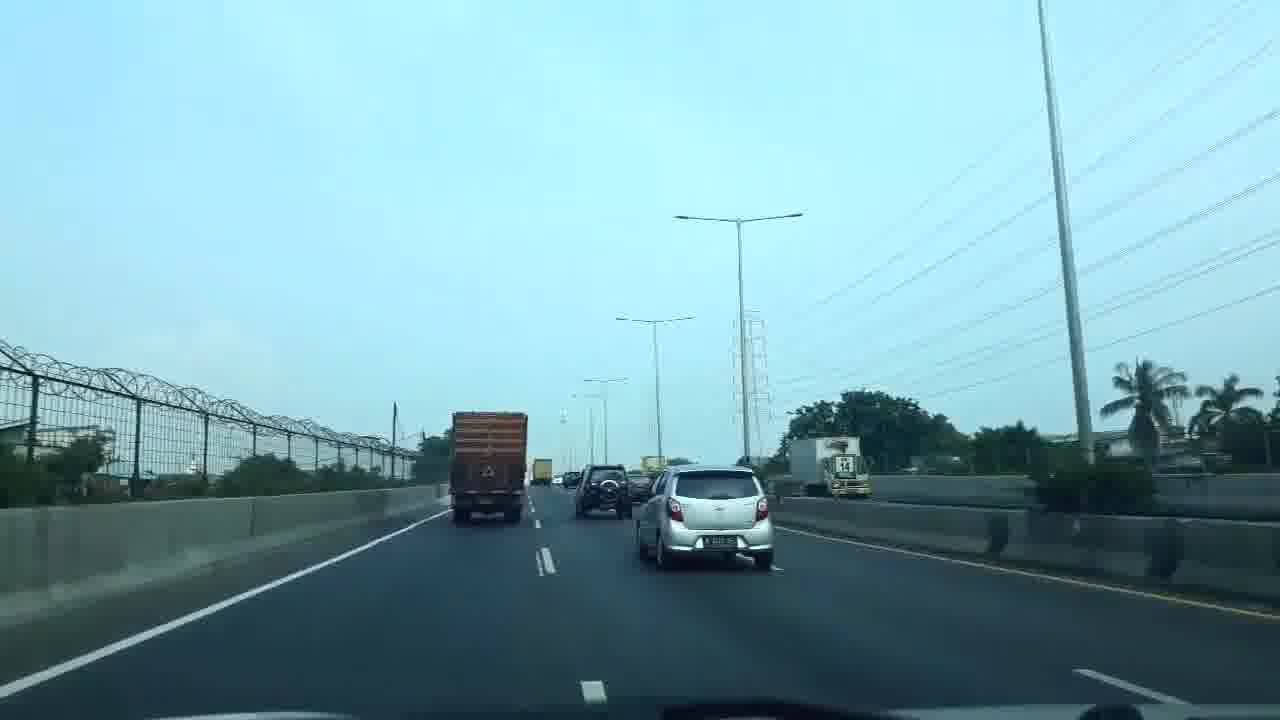plate_positive: (702, 535, 738, 549)
